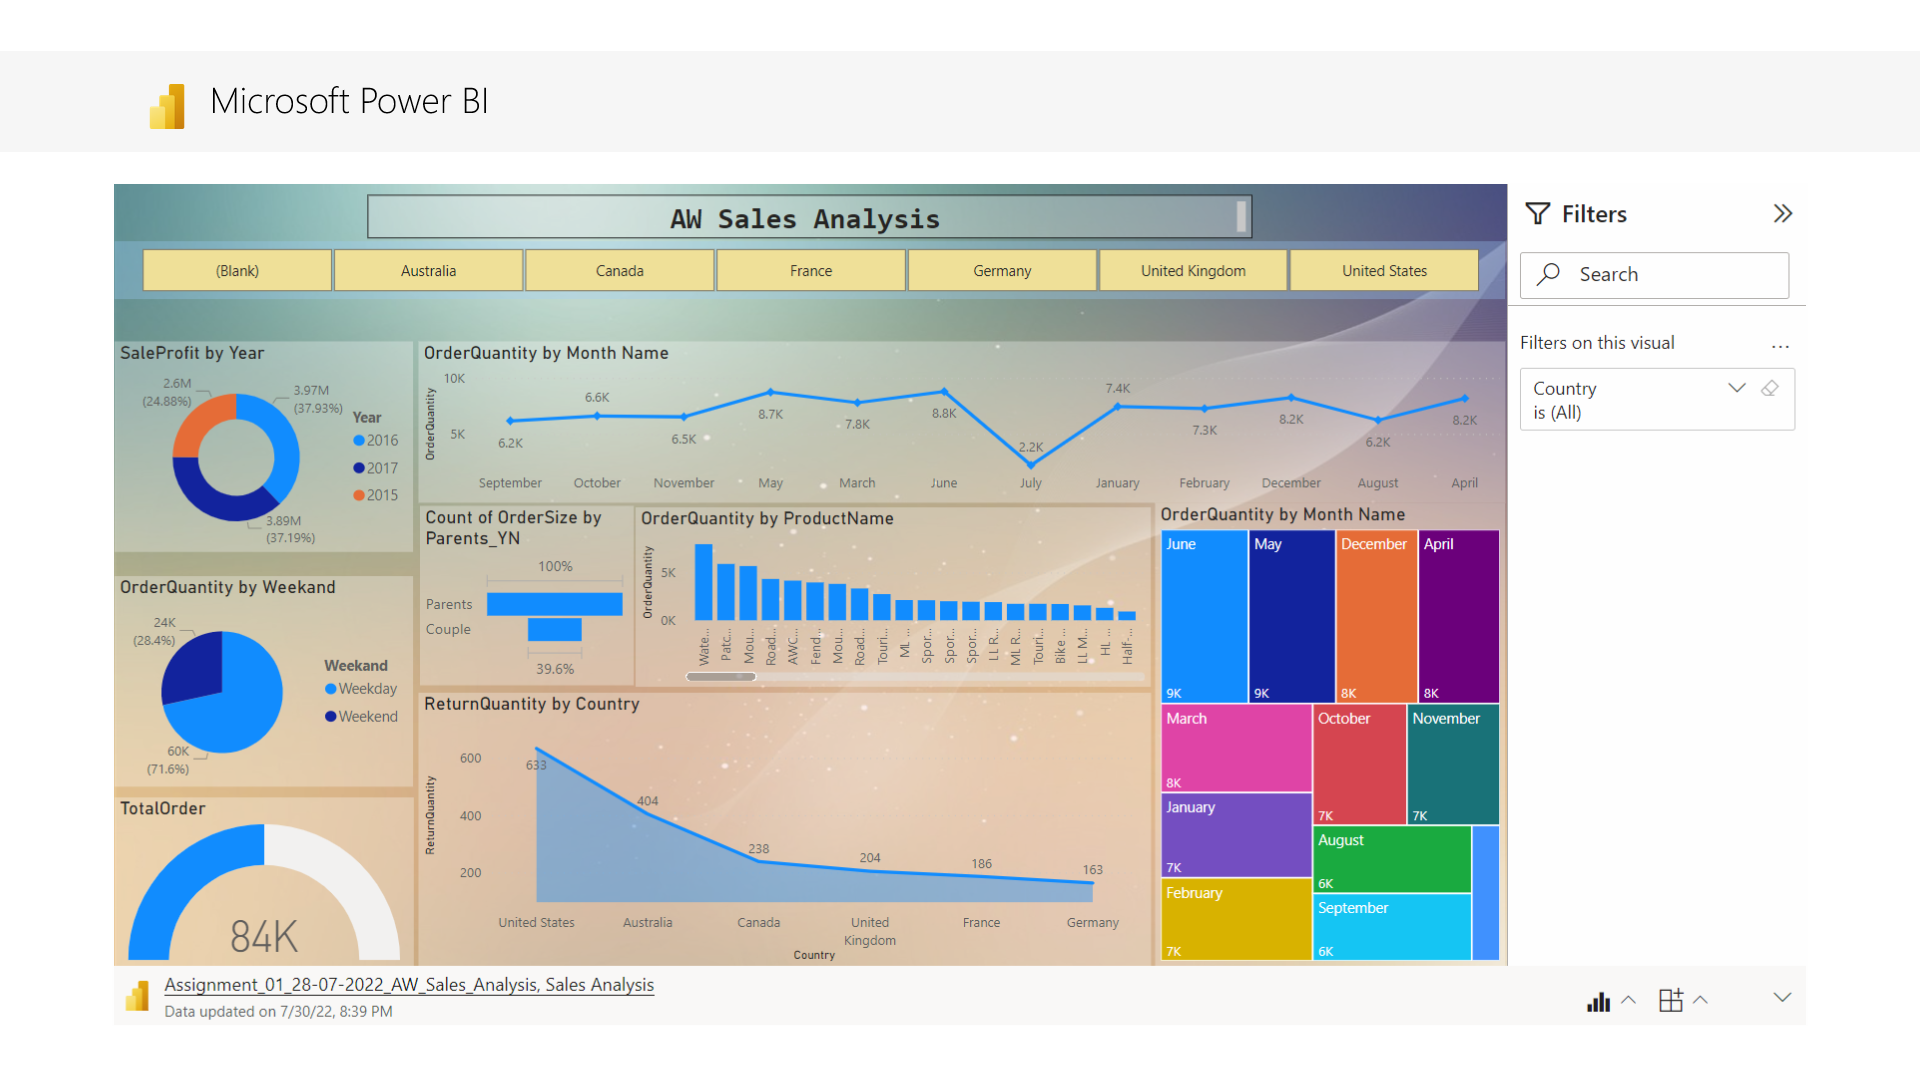

This screenshot's page, from the dashboard's own definition file:
{"tool":"powerbi","page":{"name":"Sales Analysis","canvas":[1280,720],"ordinal":0},"visuals":[{"type":"textbox","box":[232.8,9.6,814.1,39.8],"z":0},{"type":"donutChart","fields":{"Category":["AW_Calendar_Lookup.Year"],"Y":["Sum(AW_Total_Transaction.SaleProfit)"]},"box":[0,144.7,275,194.2],"z":1000},{"type":"slicer","fields":{"Values":["AW_Territories_Lookup.Country"]},"box":[0,51.9,1279.6,53.1],"z":2000},{"type":"pieChart","fields":{"Category":["AW_Calendar_Lookup.Weekand"],"Y":["Sum(AW_Total_Transaction.OrderQuantity)"]},"box":[0,360.6,275,194.2],"z":3000},{"type":"lineChart","fields":{"Category":["AW_Calendar_Lookup.Month Name"],"Y":["Sum(AW_Total_Transaction.OrderQuantity)"]},"box":[279.8,144.7,999.8,148.3],"z":4000},{"type":"gauge","fields":{"Y":["AW_Total_Transaction.TotalOrder"]},"box":[0,565,275,155],"z":5000},{"type":"funnel","fields":{"Category":["AW_Customers_Lookup.Parents_YN"],"Y":["CountNonNull(AW_Total_Transaction.OrderSize)"]},"box":[281,296.7,196.6,165.2],"z":6000},{"type":"treemap","fields":{"Group":["AW_Total_Transaction.Month Name"],"Values":["Sum(AW_Total_Transaction.OrderQuantity)"]},"box":[957.6,293.1,322,426.9],"z":7000},{"type":"areaChart","fields":{"Category":["AW_Territories_Lookup.Country"],"Y":["Sum(AW_Returns_Lookup.ReturnQuantity)"]},"box":[279.8,467.9,674.2,252.1],"z":8000},{"type":"clusteredColumnChart","fields":{"Category":["AW_Products_Lookup.ProductName"],"Y":["Sum(AW_Total_Transaction.OrderQuantity)"]},"box":[480,297.9,474,165.2],"z":9000}]}

Visuals, with their boxes on the page's 1280x720 design canvas (x1, y1, x2, y2). These are canvas units, not pixel positions in the 1920x1080 screenshot, which may show the page scaled, cropped or inside an application window:
textbox: 233,10,1047,49
donutChart - AW_Calendar_Lookup.Year x Sum(AW_Total_Transaction.SaleProfit): 0,145,275,339
slicer - AW_Territories_Lookup.Country: 0,52,1280,105
pieChart - AW_Calendar_Lookup.Weekand x Sum(AW_Total_Transaction.OrderQuantity): 0,361,275,555
lineChart - AW_Calendar_Lookup.Month Name x Sum(AW_Total_Transaction.OrderQuantity): 280,145,1280,293
gauge - AW_Total_Transaction.TotalOrder: 0,565,275,720
funnel - AW_Customers_Lookup.Parents_YN x CountNonNull(AW_Total_Transaction.OrderSize): 281,297,478,462
treemap - AW_Total_Transaction.Month Name x Sum(AW_Total_Transaction.OrderQuantity): 958,293,1280,720
areaChart - AW_Territories_Lookup.Country x Sum(AW_Returns_Lookup.ReturnQuantity): 280,468,954,720
clusteredColumnChart - AW_Products_Lookup.ProductName x Sum(AW_Total_Transaction.OrderQuantity): 480,298,954,463
